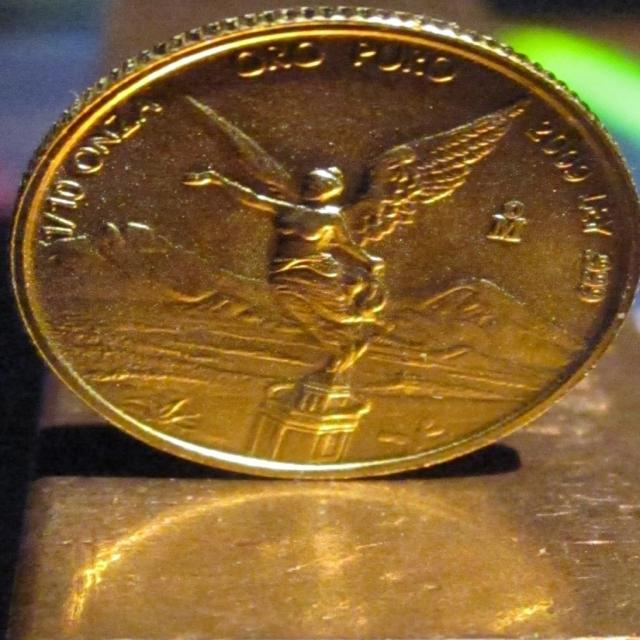Coin: (4, 5, 640, 485)
